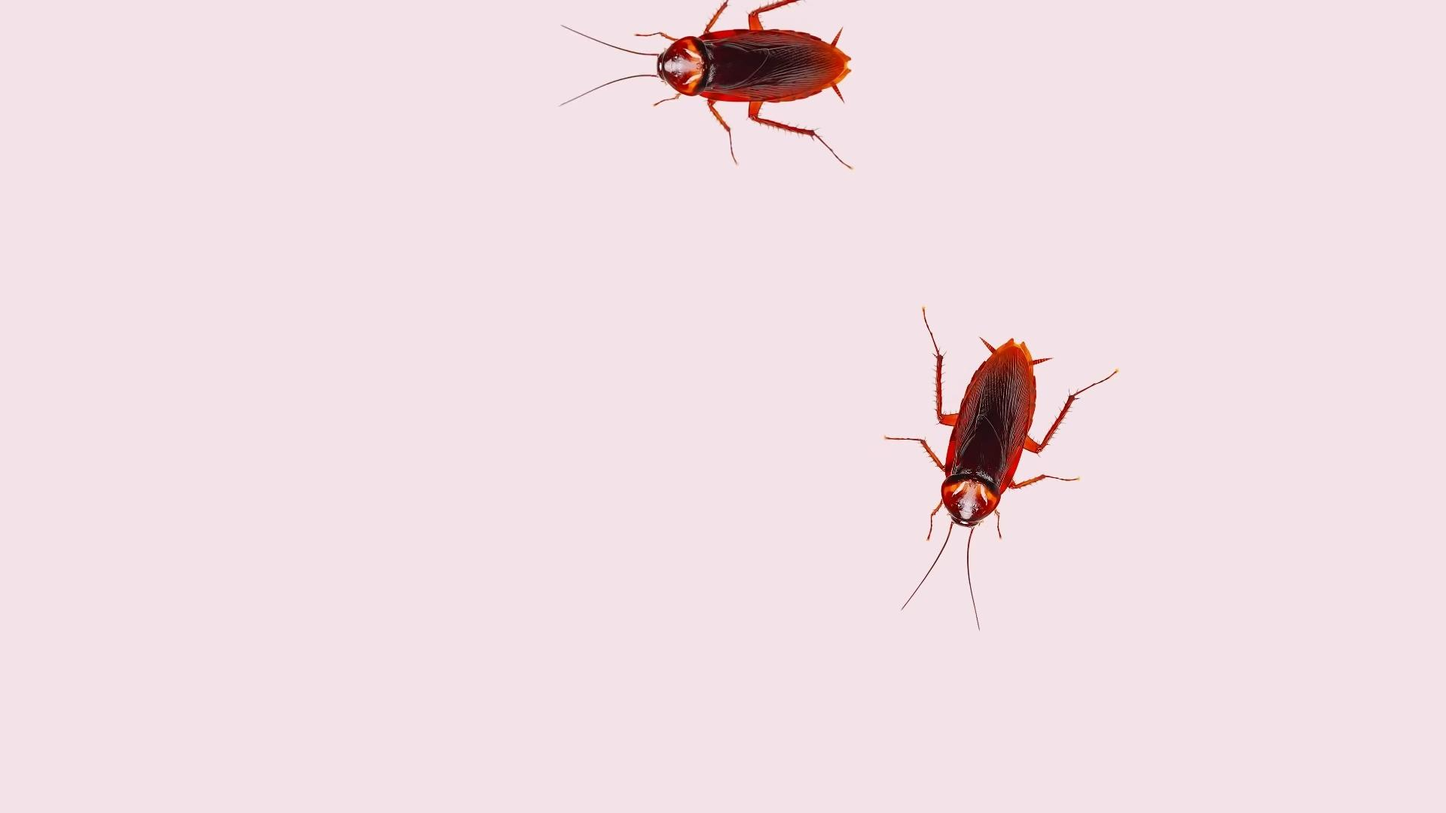cockroach: (864, 292, 1118, 623), (551, 13, 896, 171)
